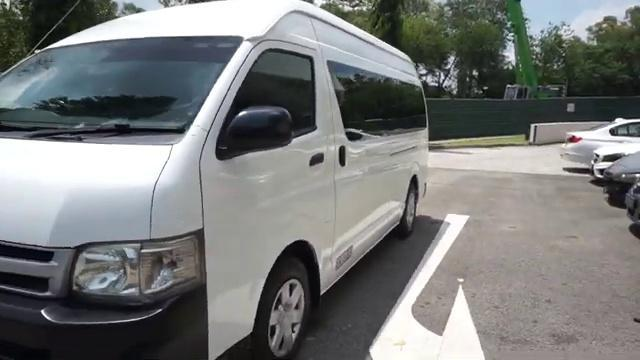Van: (1, 3, 430, 353)
